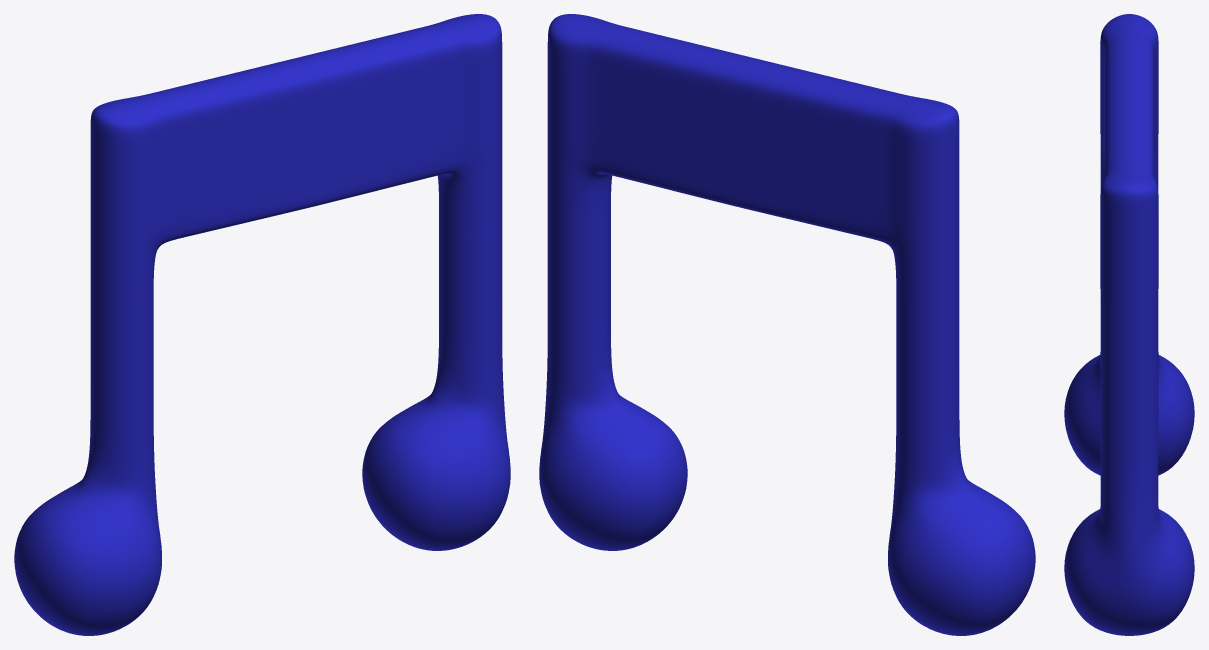
Rendered from music.fbx.
3 views of the same model, side by side, from view 1: azimuth 30°, elevation 25°; view 2: azimuth 150°, elevation 25°; view 3: azimuth 270°, elevation 25° (orthographic). The views are drawn at different scales.
Parts seen in each view (by area): view 1: music; view 2: music; view 3: music.
Boxes of the visible parts, bbox=[...] form: music: bbox=[14, 14, 510, 635]; music: bbox=[539, 14, 1035, 635]; music: bbox=[1064, 14, 1194, 635].
Bounding box in the file's own units: 182 × 189 × 47.58.
